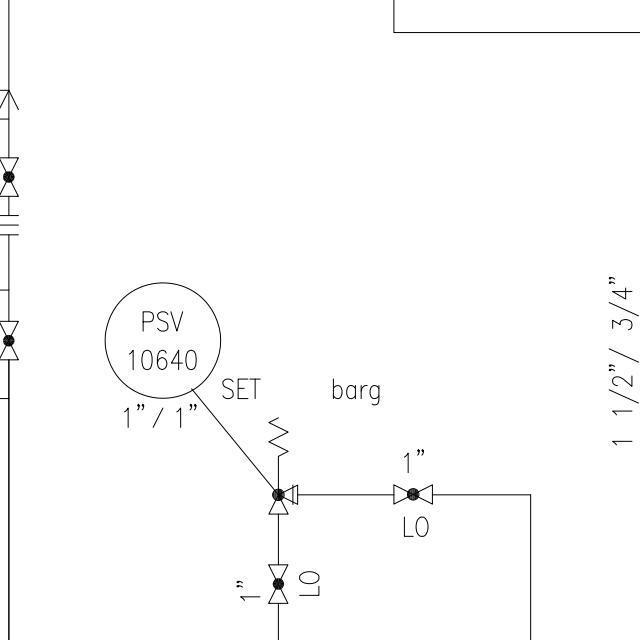BV2: (386, 480, 441, 510), (262, 560, 294, 607), (0, 151, 23, 206), (0, 312, 22, 369)
RPV: (259, 409, 307, 528)
